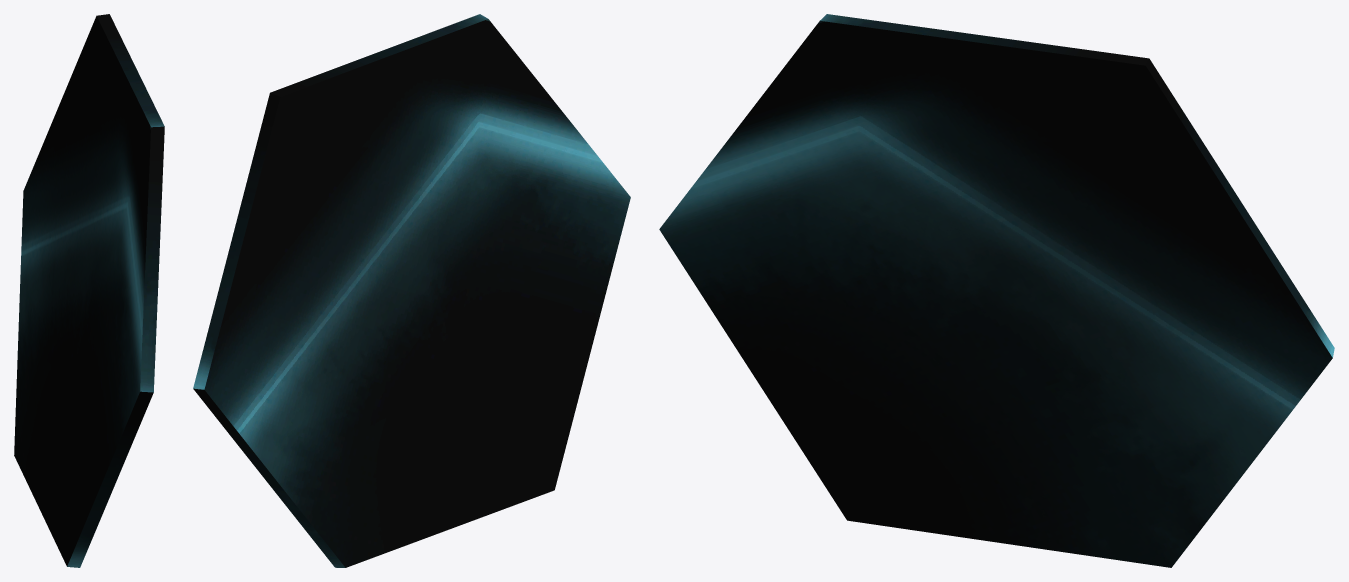
File: hexagon_v3A_3.fbx
3 views of the same model, side by side, from view 1: azimuth 30°, elevation 25°; view 2: azimuth 150°, elevation 25°; view 3: azimuth 270°, elevation 25° (orthographic). The views are drawn at different scales.
Visible parts, largest first — view 1: GD_mesh.003; view 2: GD_mesh.003; view 3: GD_mesh.003.
Part boxes in pixels (x1=…): GD_mesh.003: x1=14, y1=14, x2=164, y2=567; GD_mesh.003: x1=193, y1=14, x2=630, y2=567; GD_mesh.003: x1=659, y1=14, x2=1334, y2=567.
Size of the model in its own units: 13.53 by 35.22 by 39.39.
